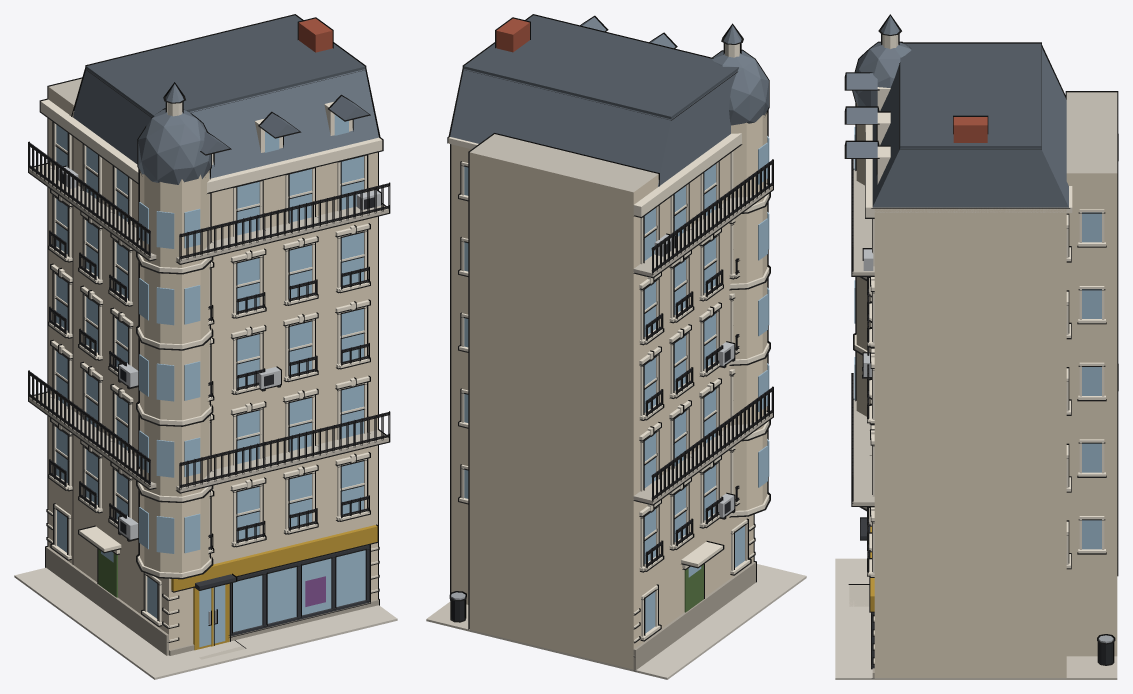
The model's file is Blok_kose_6k_1.fbx.
3 renders of one model, left to right at view 1: azimuth 30°, elevation 25°; view 2: azimuth 150°, elevation 25°; view 3: azimuth 270°, elevation 25°, orthographic.
Visible parts, largest first — view 1: Blok_kose_6k_1; view 2: Blok_kose_6k_1; view 3: Blok_kose_6k_1.
Part boxes in pixels (x1=…): Blok_kose_6k_1: x1=14, y1=14, x2=397, y2=679; Blok_kose_6k_1: x1=426, y1=14, x2=806, y2=679; Blok_kose_6k_1: x1=835, y1=14, x2=1118, y2=679.
Size of the model in its own units: 10.05 by 22.36 by 10.05.
